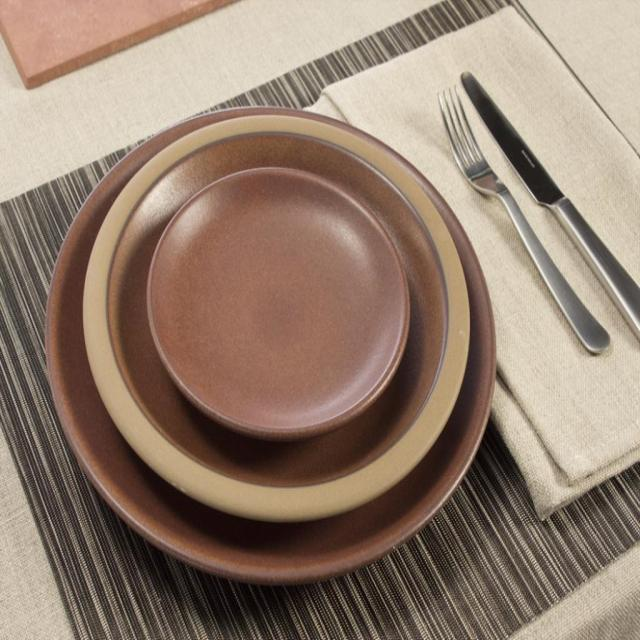non-organic waste: (48, 94, 486, 592)
